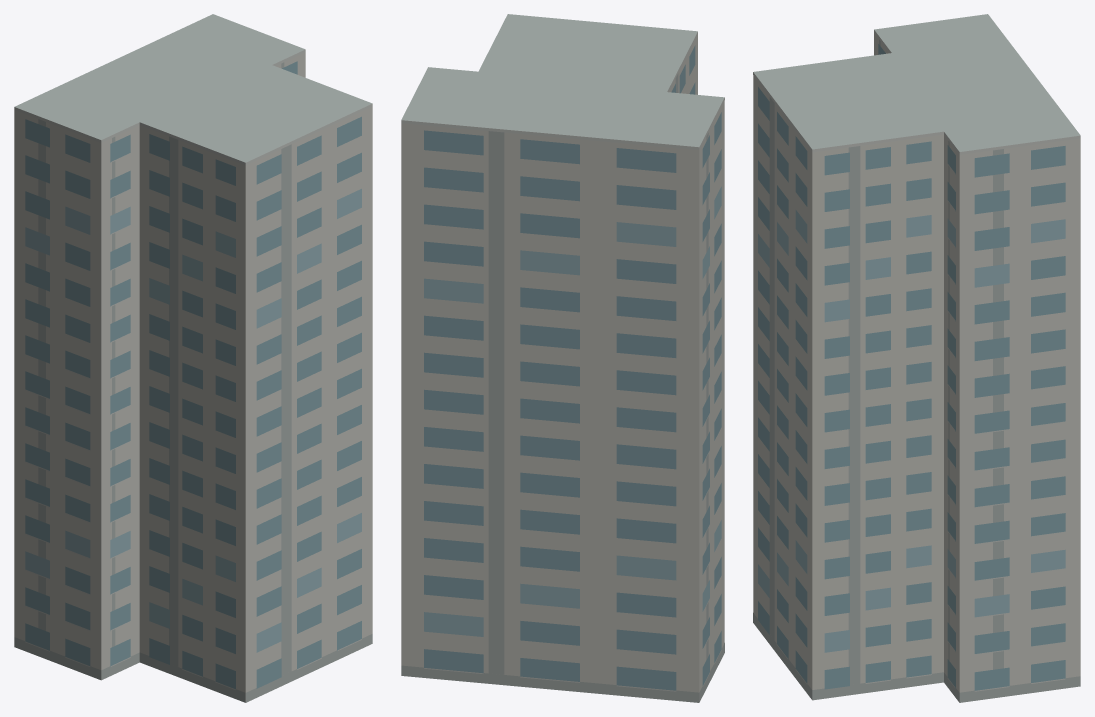
File: residential-8e5e2830-d823-4d77-a859-06b5cdc1ee5d.glb
The picture shows the model from 3 angles, left to right: view 1: azimuth 30°, elevation 25°; view 2: azimuth 150°, elevation 25°; view 3: azimuth 270°, elevation 25°; orthographic projection. The views are drawn at different scales.
Parts seen in each view (by area): view 1: residential-8e5e2830-d823-4d77-a859-06b5cdc1ee5d.tmp; view 2: residential-8e5e2830-d823-4d77-a859-06b5cdc1ee5d.tmp; view 3: residential-8e5e2830-d823-4d77-a859-06b5cdc1ee5d.tmp.
Part boxes in pixels (x1,y1,x2,y2): residential-8e5e2830-d823-4d77-a859-06b5cdc1ee5d.tmp: (14,14,372,702); residential-8e5e2830-d823-4d77-a859-06b5cdc1ee5d.tmp: (401,14,724,702); residential-8e5e2830-d823-4d77-a859-06b5cdc1ee5d.tmp: (753,14,1080,702).
Bounding box in the file's own units: 24.61 × 45.75 × 24.67.
